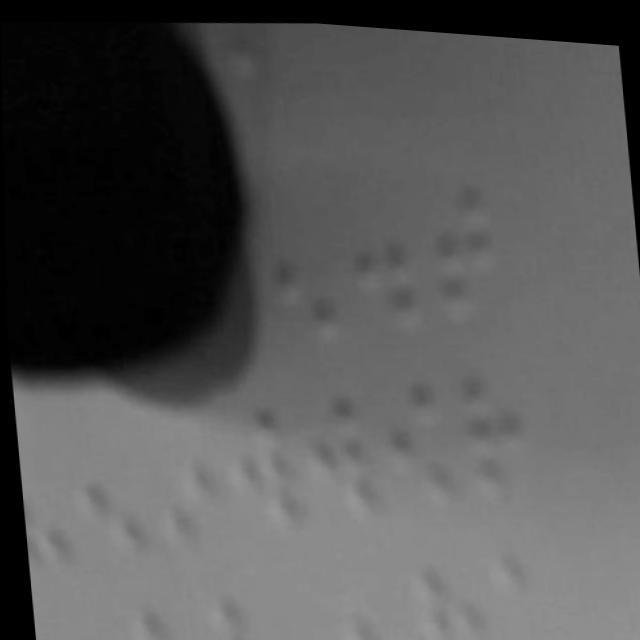braiile: (256, 187, 349, 354), (423, 159, 508, 331), (339, 166, 425, 336), (218, 386, 310, 542), (297, 376, 385, 534), (377, 368, 469, 518), (63, 402, 147, 565), (453, 344, 538, 503), (144, 403, 224, 555), (405, 550, 490, 640)
